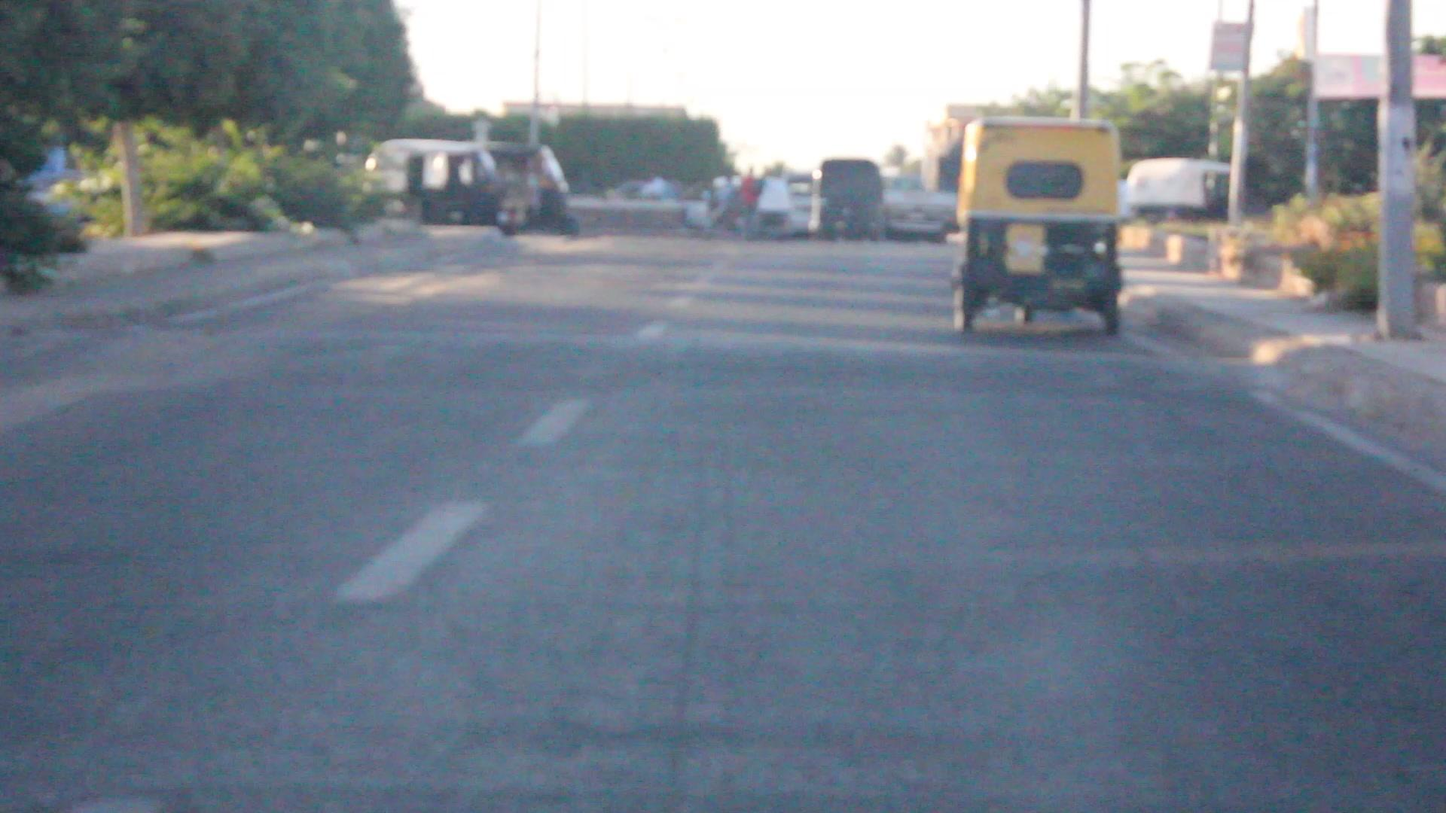Bump: (87, 320, 1280, 397)
